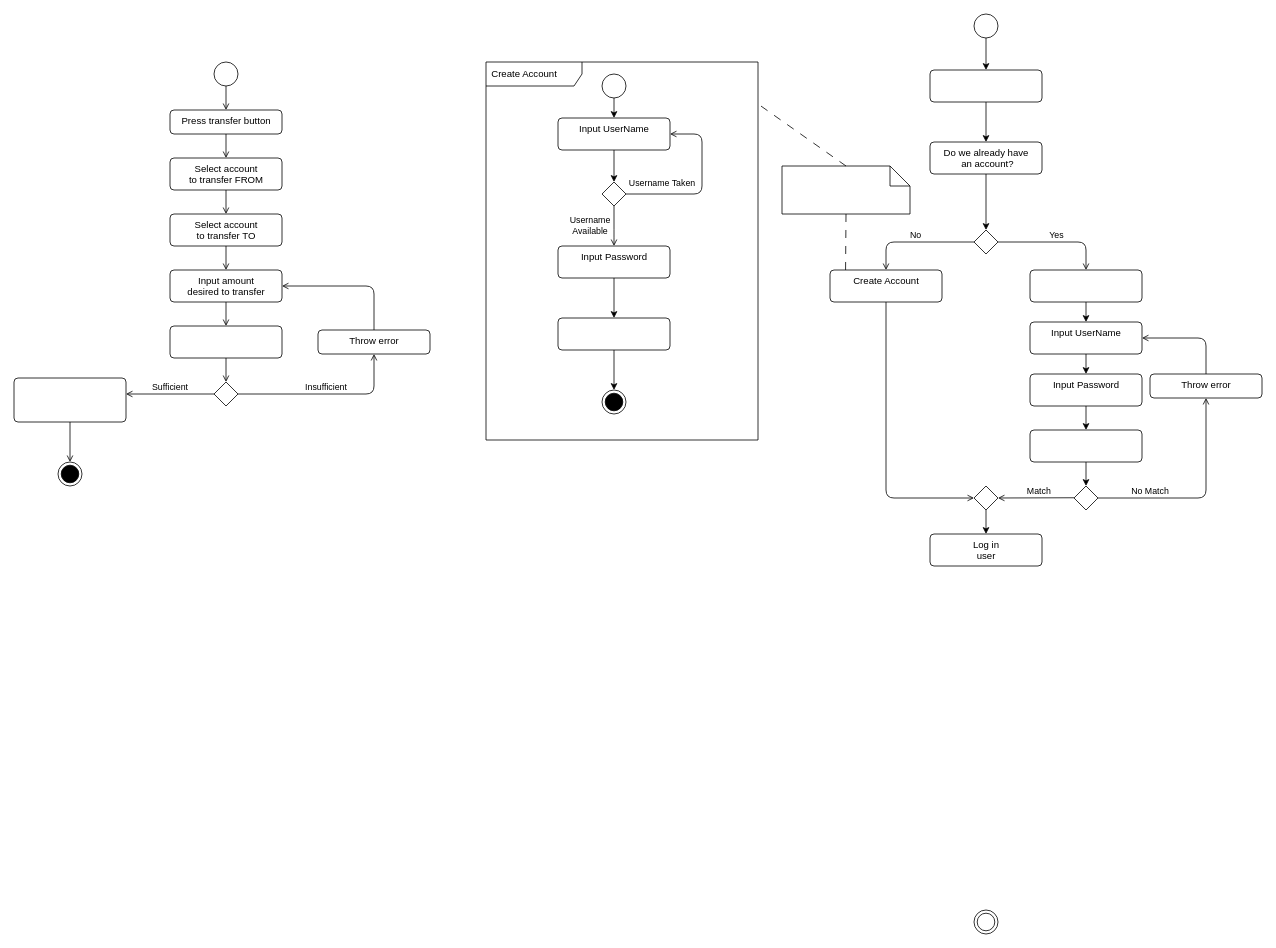
This 1276x948 diagram has some shape labels left out. The shapes that lost their labels are listed below. From the top down, each one's centre as x and y in pixels, then its label:
At (985,85): "Use Banking Application".
At (845,189): "Call Activity Node".
At (1085,285): "Login to Account".
At (225,341): "Check if account has sufficient funds".
At (613,333): "Choose Account Type".
At (69,399): "Move specified amount from one acocunt to another".
At (1085,445): "Check if username and password match".
